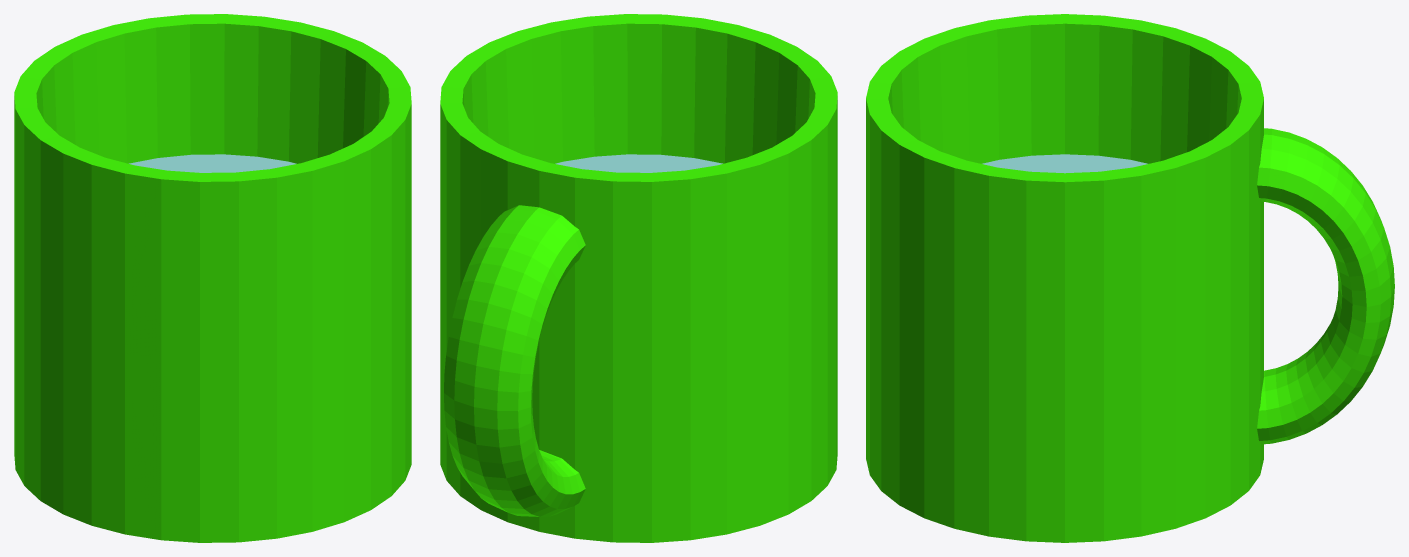
File: mug.glb
3 renders of one model, left to right at view 1: azimuth 30°, elevation 25°; view 2: azimuth 150°, elevation 25°; view 3: azimuth 270°, elevation 25°, orthographic.
Visible parts, largest first — view 1: Mug, Water; view 2: Mug, Water; view 3: Mug, Water.
Boxes of the visible parts, x1=… form: Mug: x1=14, y1=14, x2=411, y2=542; Water: x1=129, y1=154, x2=296, y2=172; Mug: x1=440, y1=14, x2=837, y2=542; Water: x1=555, y1=154, x2=722, y2=172; Mug: x1=866, y1=14, x2=1394, y2=542; Water: x1=982, y1=154, x2=1147, y2=173.
Size of the model in its own units: 0.6 by 0.6 by 0.7973.
